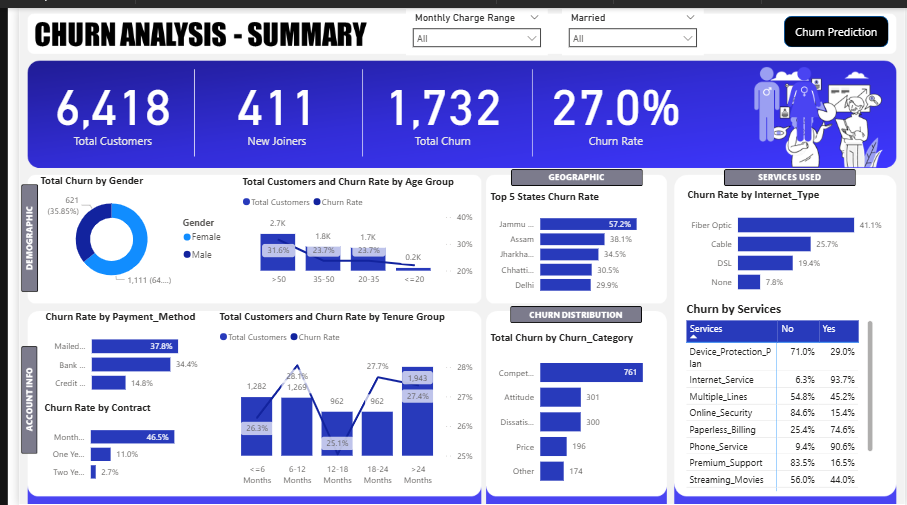

Layout of this report page (visuals, bound fields, positions):
{"tool":"powerbi","page":{"name":"Summary","canvas":[1280,720],"ordinal":1},"visuals":[{"type":"card","fields":{"Values":["tbl_Measures.Total Customers"]},"box":[16.7,76.7,236.7,135],"z":0},{"type":"card","fields":{"Values":["tbl_Measures.New Joiners"]},"box":[265,76.7,216.7,135],"z":1000},{"type":"card","fields":{"Values":["tbl_Measures.Total Churned Customers"]},"box":[505,76.7,216.7,135],"z":2000},{"type":"card","fields":{"Values":["tbl_Measures.Churn Rate"]},"box":[760,76.7,205,135],"z":3000},{"type":"donutChart","fields":{"Category":["prod_churn.Gender"],"Y":["tbl_Measures.Total Churn"]},"box":[26.7,240,281.7,170],"z":4000},{"type":"lineStackedColumnComboChart","fields":{"Y":["tbl_Measures.Total Customers"],"Y2":["tbl_Measures.Churn Rate"],"Category":["mapping_AgeGrp.Age Group"]},"box":[318.3,241.7,343.3,168.3],"z":5000},{"type":"clusteredBarChart","fields":{"Category":["prod_churn.Payment_Method"],"Y":["tbl_Measures.Churn Rate"]},"box":[33.3,436.7,235,131.7],"z":6000},{"type":"clusteredBarChart","fields":{"Category":["prod_churn.Contract"],"Y":["tbl_Measures.Churn Rate"]},"box":[31.7,568.3,236.7,128.3],"z":7000},{"type":"lineStackedColumnComboChart","fields":{"Y":["tbl_Measures.Total Customers"],"Y2":["tbl_Measures.Churn Rate"],"Category":["mapping_TenureGrp.Tenure Group"]},"box":[285,436.7,376.7,261.7],"z":8000},{"type":"clusteredBarChart","title":"Top 5 States Churn Rate","fields":{"Category":["prod_churn.State"],"Y":["tbl_Measures.Churn Rate"]},"box":[676.7,263.3,255,160],"z":9000},{"type":"clusteredBarChart","fields":{"Category":["prod_churn.Churn_Category"],"Y":["tbl_Measures.Total Churn"]},"box":[676.7,466.7,255,236.7],"z":10000},{"type":"clusteredBarChart","fields":{"Category":["prod_churn.Internet_Type"],"Y":["tbl_Measures.Churn Rate"]},"box":[961.7,260,296.7,163.3],"z":11000},{"type":"pivotTable","title":"Churn by Services","fields":{"Rows":["prod_Services.Services"],"Columns":["prod_Services.Status"],"Values":["Sum(prod_Services.Churn Status)"]},"box":[960,423.3,280,280],"z":12000},{"type":"slicer","fields":{"Values":["prod_churn.Monthly Charge Status"]},"box":[403.1,5,204.9,67.2],"z":13000},{"type":"slicer","fields":{"Values":["prod_churn.Married"]},"box":[608.1,5,204.9,67.2],"z":14000},{"type":"image","box":[965,62,294,150],"z":15000},{"type":"textbox","box":[908.3,76.7,223.3,163.3],"z":16000},{"type":"shape","box":[1105.3,11.8,151.2,45.4],"z":16001}]}

Visuals, with their boxes in screenshot pixels (x1, y1, x2, y2), scaled from the page's 1280x720 canvas onto the 907x505 screenshot:
card - tbl_Measures.Total Customers: {"left": 12, "top": 54, "right": 180, "bottom": 148}
card - tbl_Measures.New Joiners: {"left": 188, "top": 54, "right": 341, "bottom": 148}
card - tbl_Measures.Total Churned Customers: {"left": 358, "top": 54, "right": 511, "bottom": 148}
card - tbl_Measures.Churn Rate: {"left": 539, "top": 54, "right": 684, "bottom": 148}
donutChart - prod_churn.Gender x tbl_Measures.Total Churn: {"left": 19, "top": 168, "right": 219, "bottom": 288}
lineStackedColumnComboChart - tbl_Measures.Total Customers x tbl_Measures.Churn Rate: {"left": 226, "top": 170, "right": 469, "bottom": 288}
clusteredBarChart - prod_churn.Payment_Method x tbl_Measures.Churn Rate: {"left": 24, "top": 306, "right": 190, "bottom": 399}
clusteredBarChart - prod_churn.Contract x tbl_Measures.Churn Rate: {"left": 22, "top": 399, "right": 190, "bottom": 489}
lineStackedColumnComboChart - tbl_Measures.Total Customers x tbl_Measures.Churn Rate: {"left": 202, "top": 306, "right": 469, "bottom": 490}
"Top 5 States Churn Rate" clusteredBarChart: {"left": 480, "top": 185, "right": 660, "bottom": 297}
clusteredBarChart - prod_churn.Churn_Category x tbl_Measures.Total Churn: {"left": 480, "top": 327, "right": 660, "bottom": 493}
clusteredBarChart - prod_churn.Internet_Type x tbl_Measures.Churn Rate: {"left": 681, "top": 182, "right": 892, "bottom": 297}
"Churn by Services" pivotTable: {"left": 680, "top": 297, "right": 879, "bottom": 493}
slicer - prod_churn.Monthly Charge Status: {"left": 286, "top": 4, "right": 431, "bottom": 51}
slicer - prod_churn.Married: {"left": 431, "top": 4, "right": 576, "bottom": 51}
image: {"left": 684, "top": 43, "right": 892, "bottom": 149}
textbox: {"left": 644, "top": 54, "right": 802, "bottom": 168}
shape: {"left": 783, "top": 8, "right": 890, "bottom": 40}
